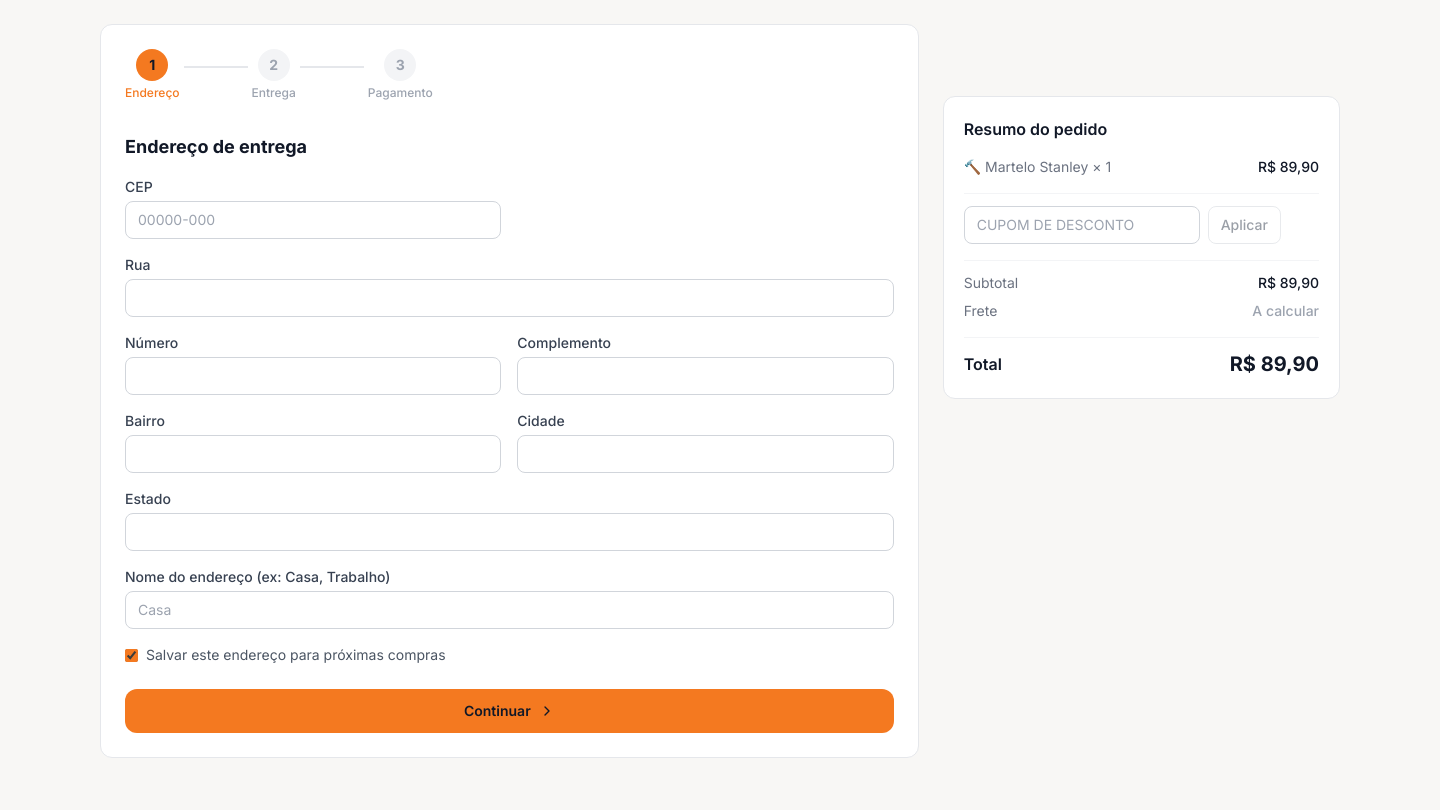
Scenario: CheckoutPage — cupom de desconto › recusa cupom abaixo do pedido mínimo com mensagem
This screenshot has width=1440, height=810.
Step 1. Type "OBRA10" into the field labelled "Cupom de desconto" → (1082, 225), box [964,206,1200,244]
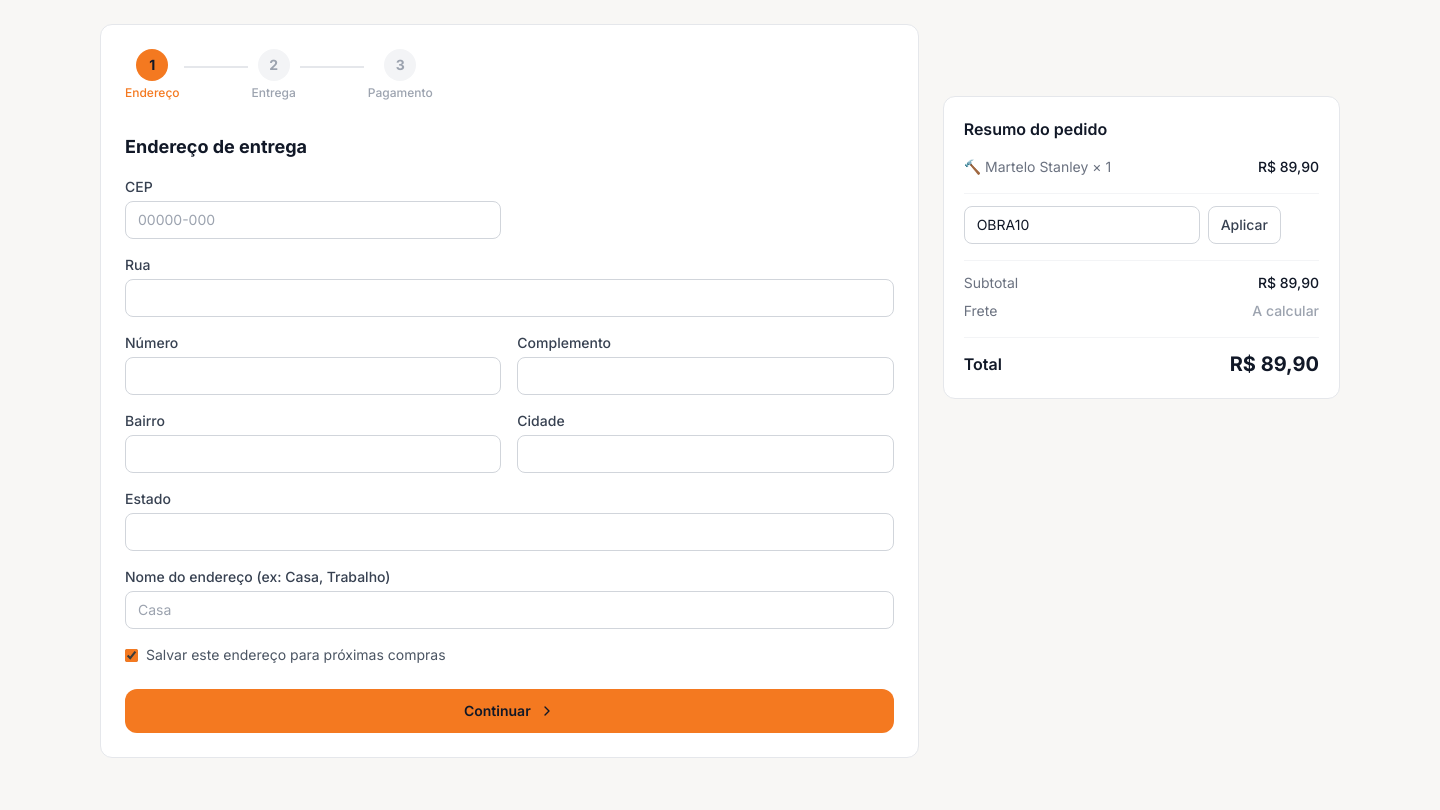
Step 2. Click the button "Aplicar" → (1244, 225), box [1208,206,1281,244]
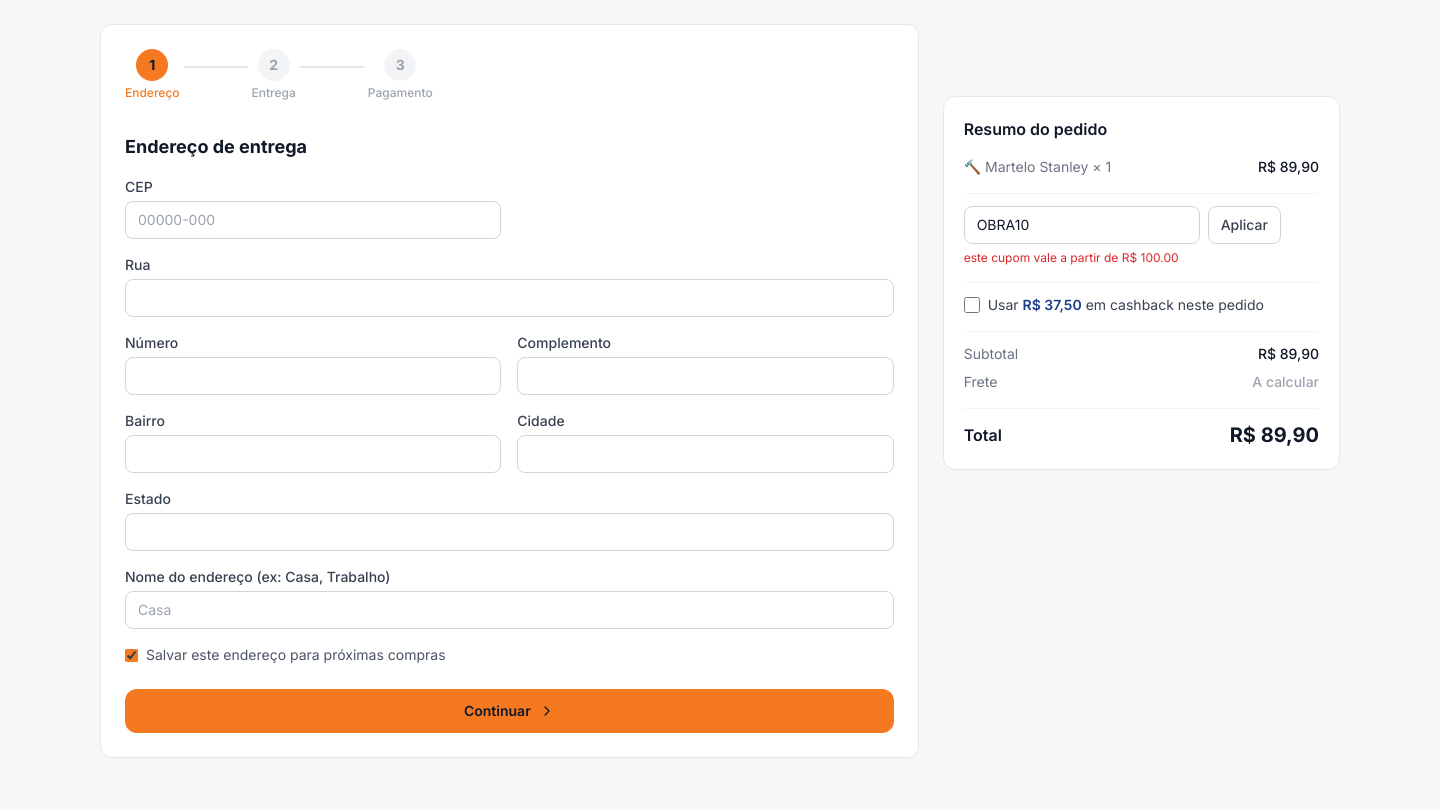
Expected: the text "este cupom vale a partir de R$ 100.00" is shown, [964,250,1179,265]
